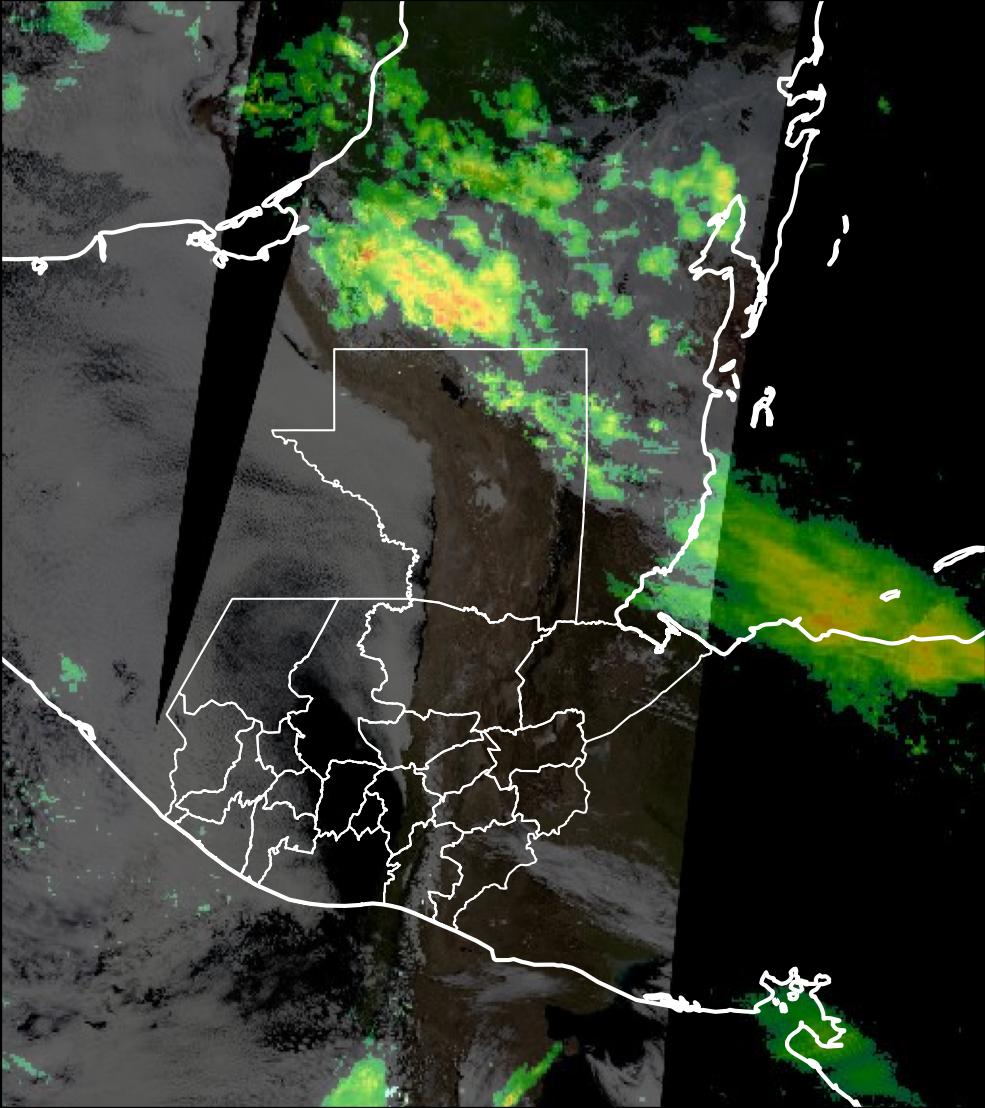precipitacion: (366, 228, 512, 338)
